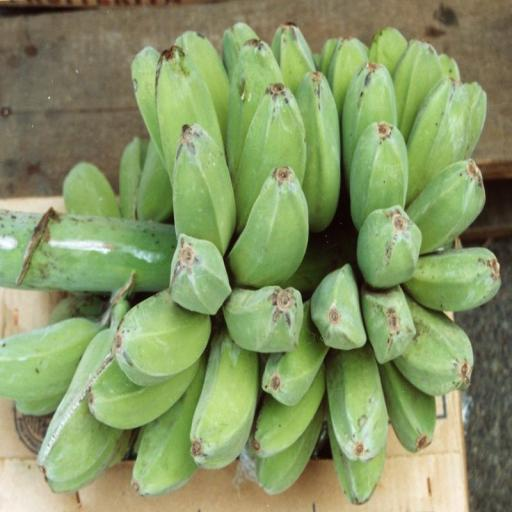banana-unripe: (2, 5, 512, 489)
